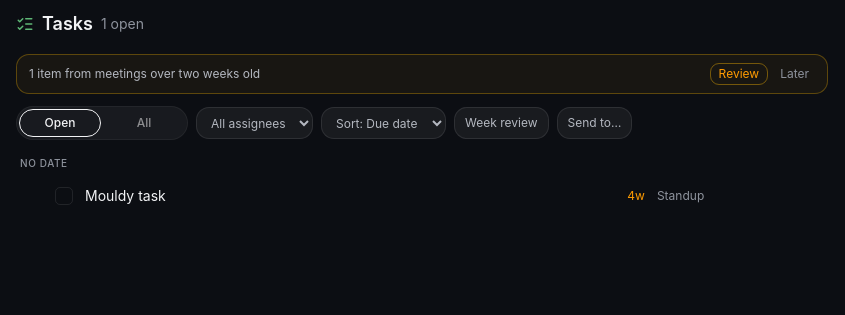
Test case: TasksView › review surfaces are mutually exclusive (UX audit) › triage replaces the banner, and the week review outranks triage
Expected: the text "Mouldy task" is shown, [85,187,166,204]
# Banner → Review swaps in the triage panel (never both).
Click the button "Review" at (739, 74), box [710,63,768,85]
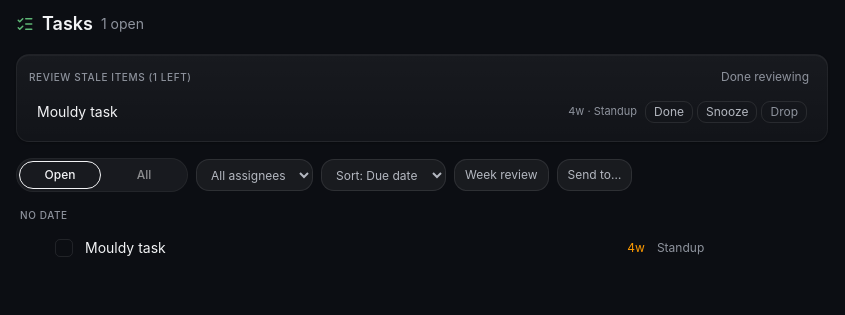
Expected: the text "Week in review" is not shown
Expected: the text "Review stale items (1 left)" is shown, [29,70,192,84]
Expected: the text "from meetings over two" is gone
# Opening the week review mid-triage shows ONLY the week review…
Click the button "Week review" at (501, 175), box [454,159,548,191]
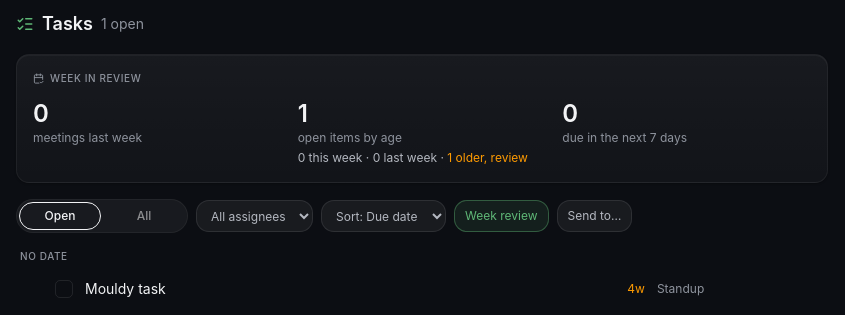
Expected: the text "from meetings over two" is not shown
Expected: the text "Week in review" is shown, [33,72,141,84]
Expected: the text "Review stale items" is gone
# …and closing it resumes the triage that was underway.
Click the button "Week review" at (501, 216), box [454,200,548,232]
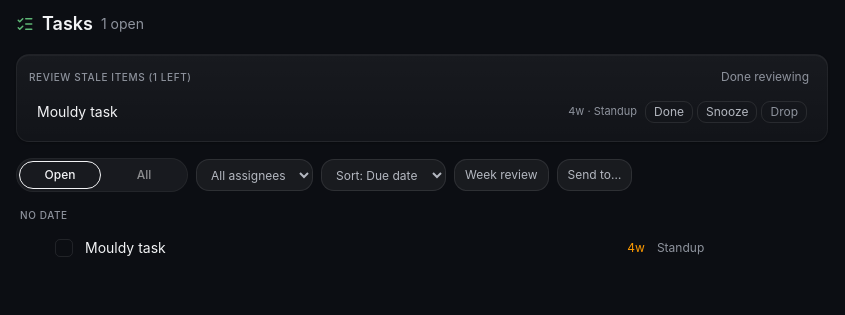
Expected: the text "from meetings over two" is not shown
Expected: the text "Review stale items (1 left)" is shown, [29,70,192,84]
Expected: the text "Week in review" is gone
